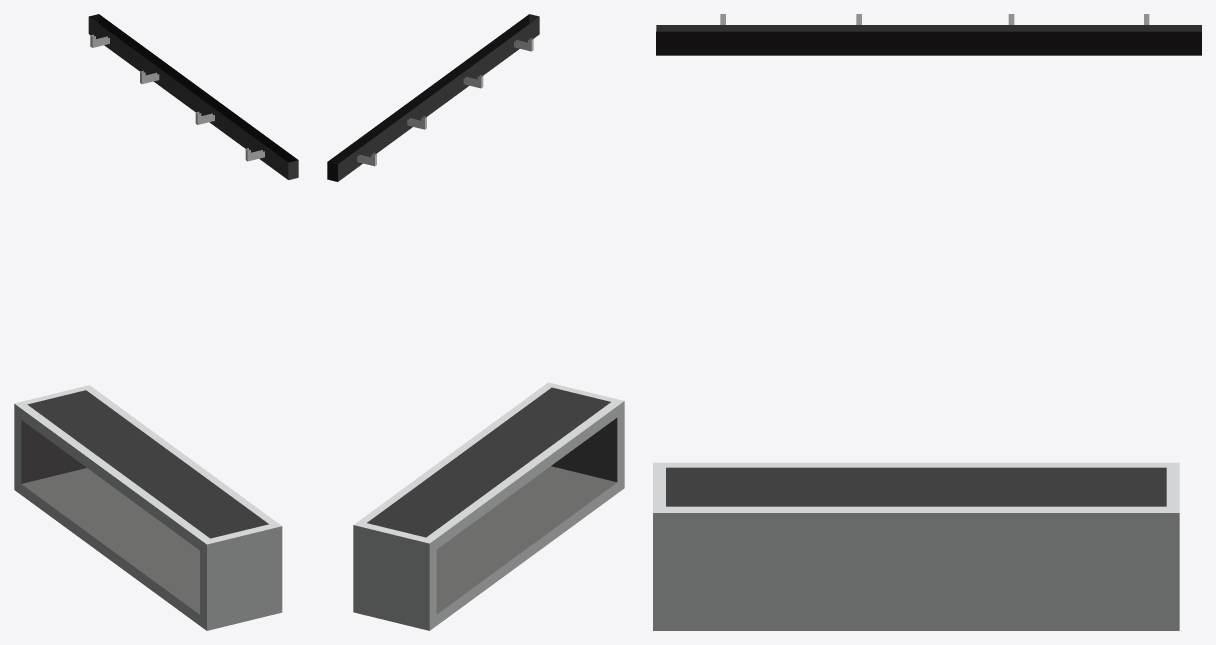
Rendered from M_huanxieyi02.FBX.
The picture shows the model from 3 angles, left to right: view 1: azimuth 30°, elevation 25°; view 2: azimuth 150°, elevation 25°; view 3: azimuth 270°, elevation 25°; orthographic projection. The views are drawn at different scales.
Visible parts, largest first — view 1: M_huanxieyi02; view 2: M_huanxieyi02; view 3: M_huanxieyi02.
Boxes of the visible parts, x1,y1,x2,y2 form: M_huanxieyi02: (14, 14, 298, 630); M_huanxieyi02: (327, 14, 624, 630); M_huanxieyi02: (653, 14, 1201, 630).
Size of the model in its own units: 0.5761 by 2.65 by 2.15.
